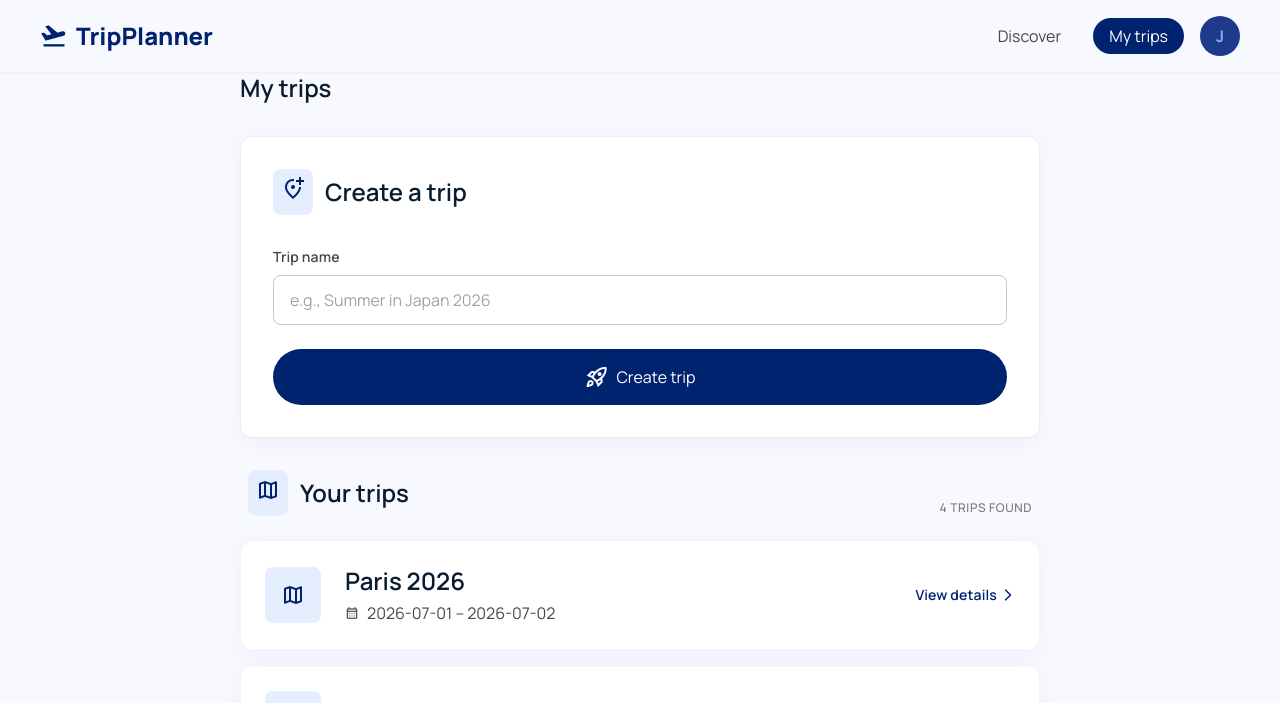
Test case: TripsPage › create trip (F3-US1) › shows the server error message when creation fails
Type "DuplicateTripNameTrigger" into the field labelled "Trip name" at (640, 300), box [273,275,1007,325]
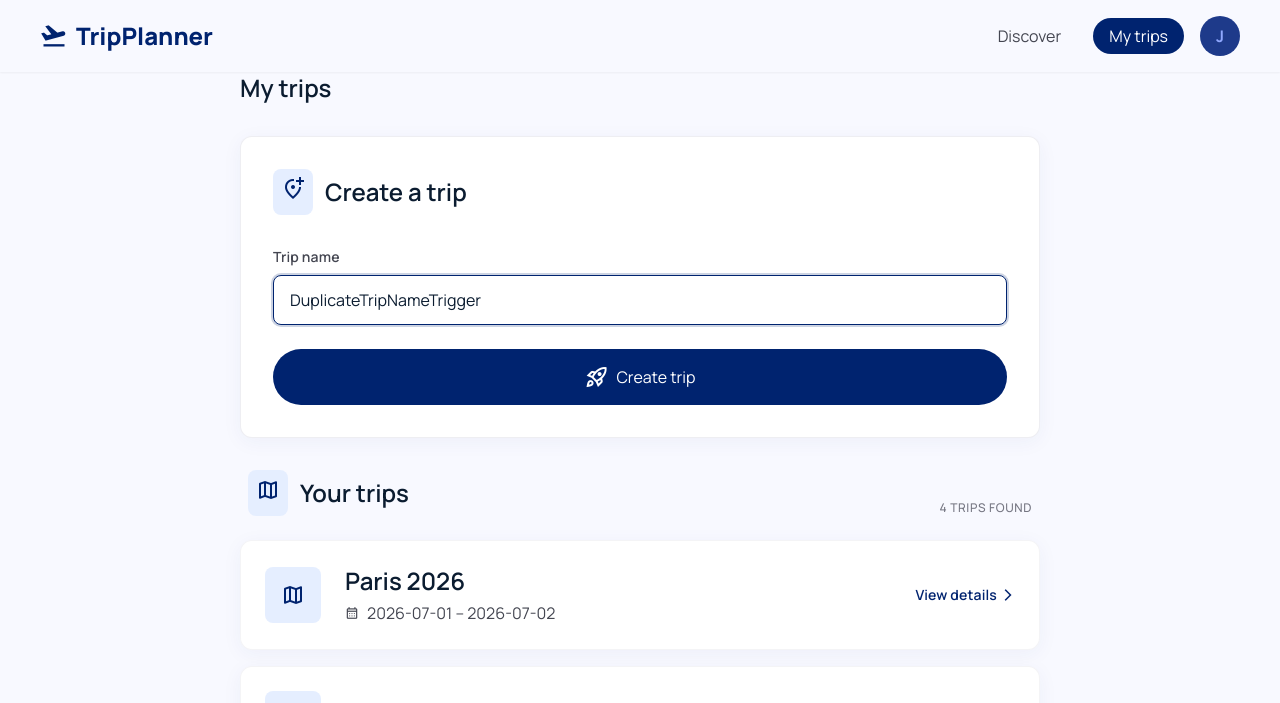
Click the button "Create trip" at (640, 377), box [273,349,1007,405]
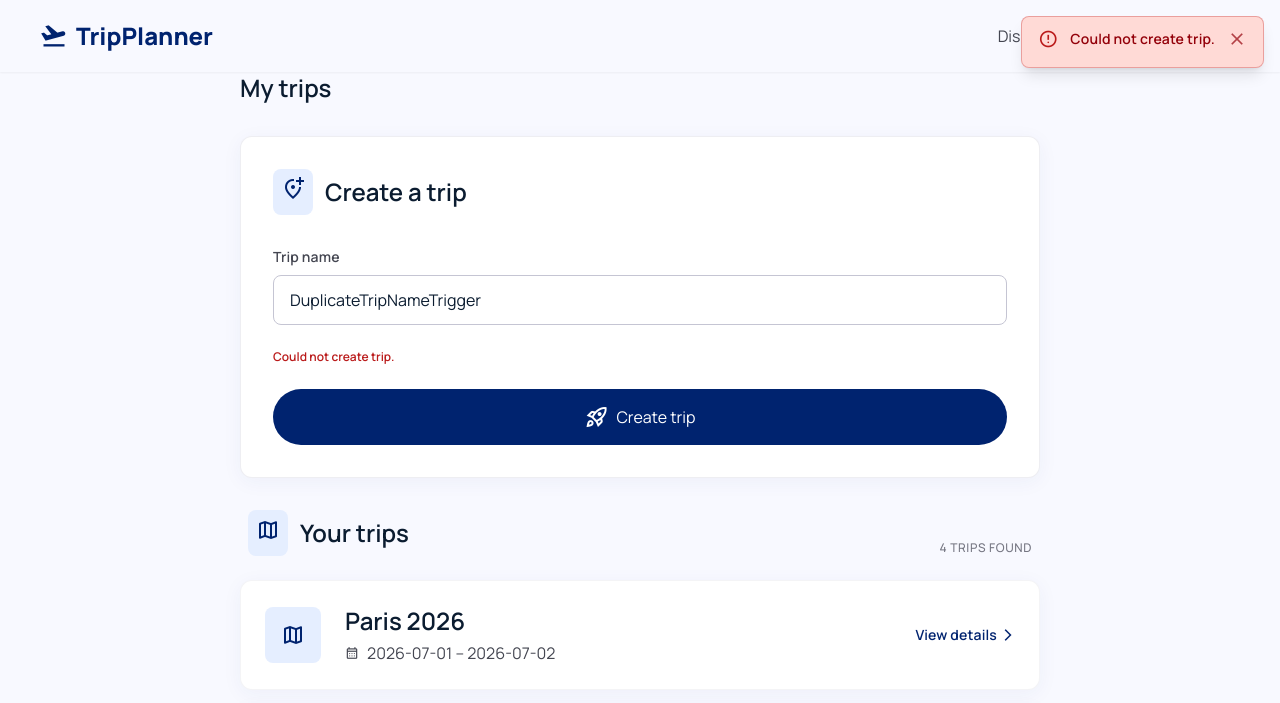
Result: the text "Could not create trip." below "Trip name" is shown at [273,348,394,365]
